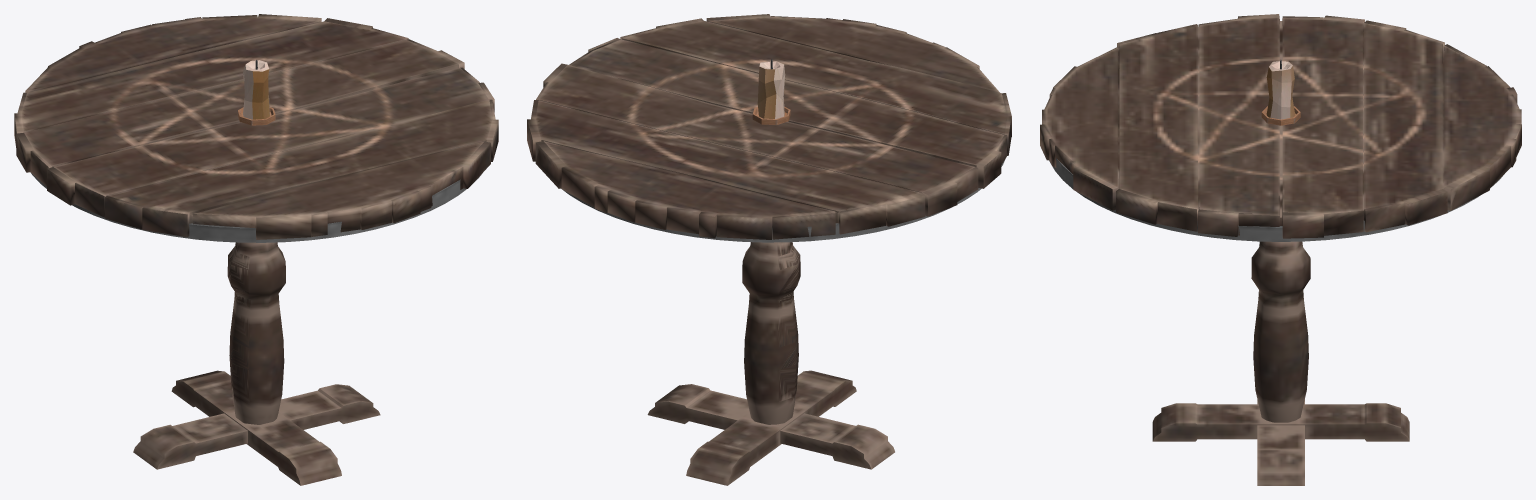
Rendered from clientTable.fbx.
3 views of the same model, side by side, from view 1: azimuth 30°, elevation 25°; view 2: azimuth 150°, elevation 25°; view 3: azimuth 270°, elevation 25° (orthographic).
Visible parts, largest first — view 1: kolco_low.001, Coloured_Wick1; view 2: kolco_low.001, Coloured_Wick1; view 3: kolco_low.001, Coloured_Wick1.
Boxes of the visible parts, bbox=[...] form: kolco_low.001: bbox=[14, 14, 498, 485]; Coloured_Wick1: bbox=[237, 60, 275, 125]; kolco_low.001: bbox=[527, 14, 1011, 485]; Coloured_Wick1: bbox=[752, 59, 790, 124]; kolco_low.001: bbox=[1040, 14, 1521, 485]; Coloured_Wick1: bbox=[1261, 60, 1300, 125].
Size of the model in its own units: 387 by 330 by 387.
2 materials, 2 textured.
